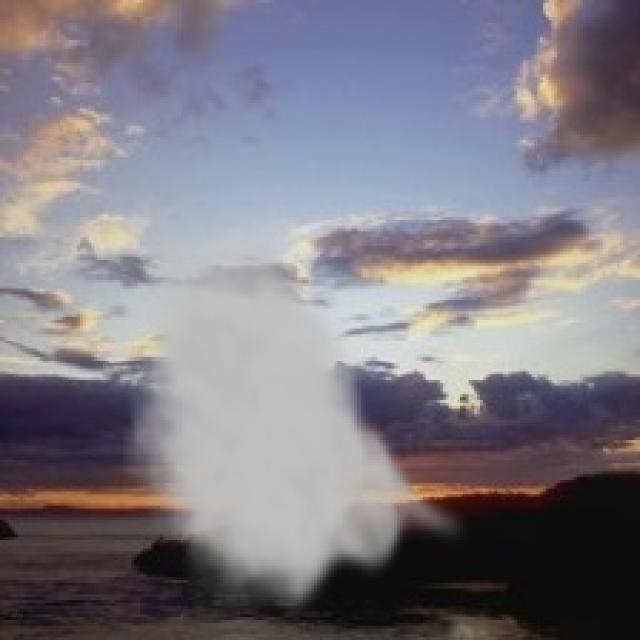smoke: (123, 203, 471, 623)
